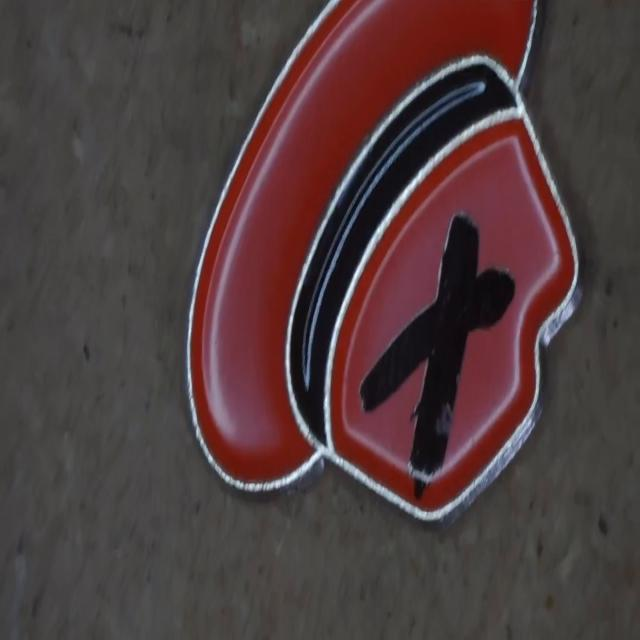Hatband: (289, 62, 516, 444)
Paint_Leak: (360, 213, 515, 498)
RedHatPin: (188, 0, 578, 519)
